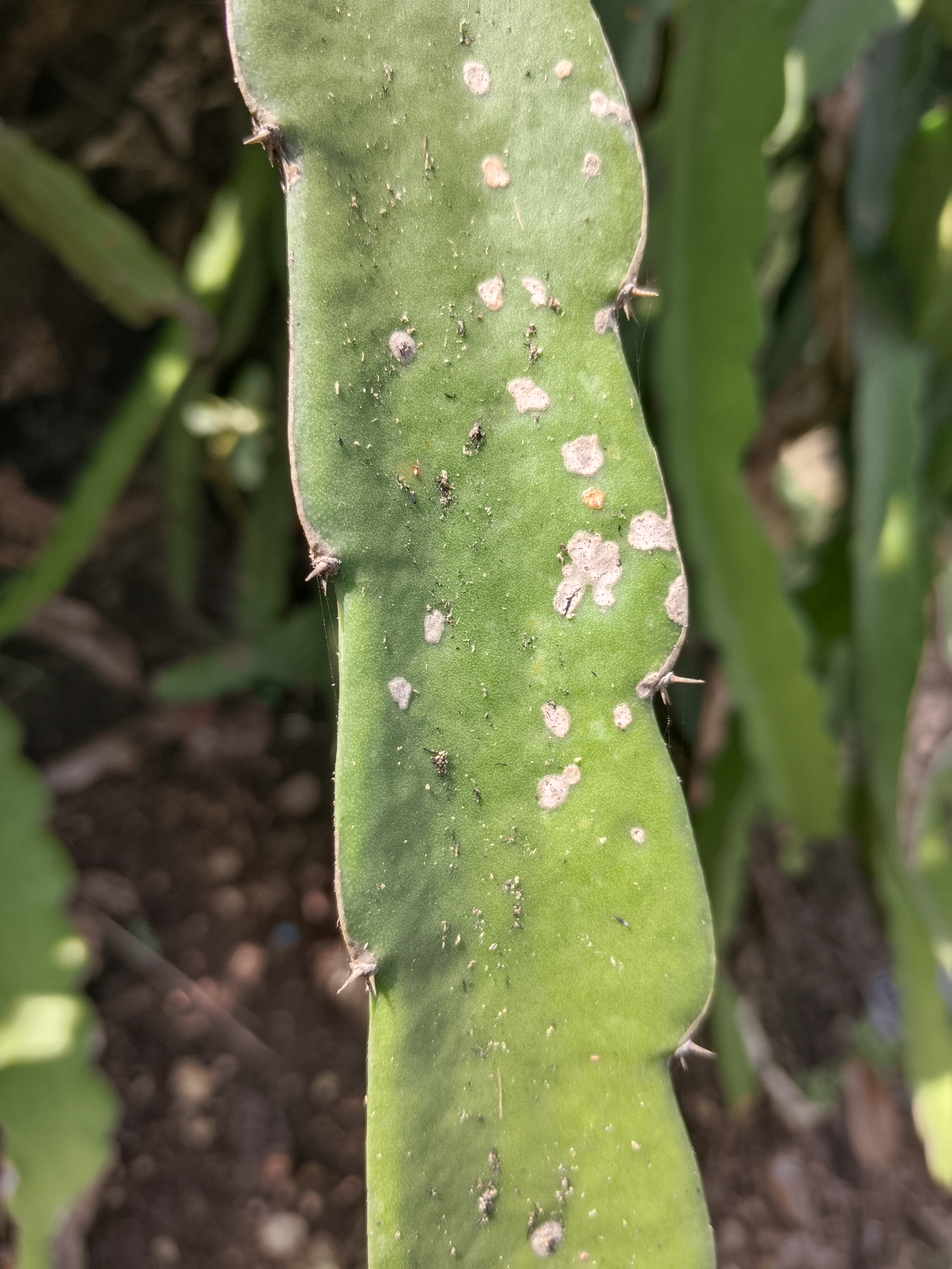stemcanker: (224, 1, 723, 1269)
